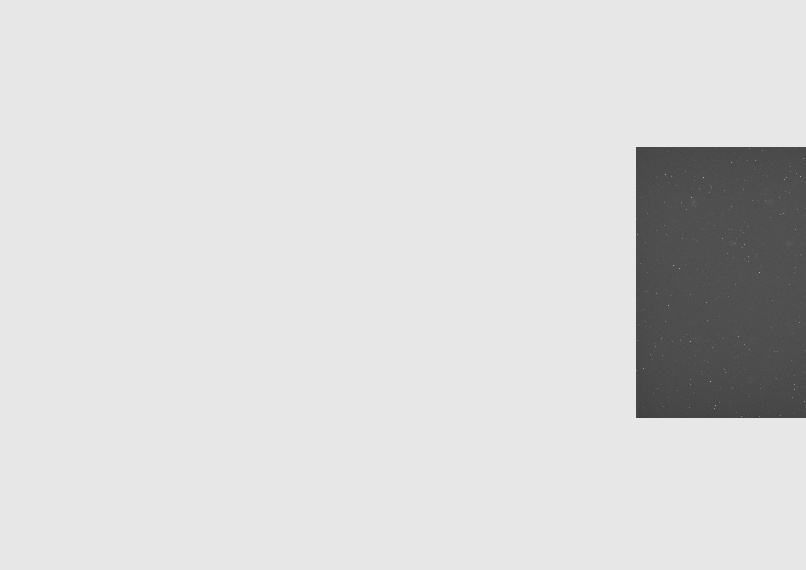bubble: (688, 197, 700, 208), (783, 238, 795, 247), (765, 197, 777, 205), (728, 238, 738, 247)
